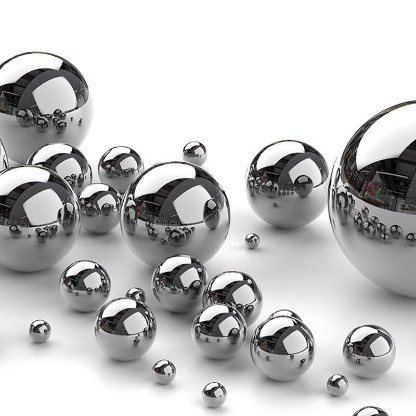ironball: (326, 98, 415, 299), (119, 160, 230, 268), (0, 50, 93, 164), (0, 164, 81, 272), (244, 138, 329, 228), (249, 313, 315, 381), (93, 295, 156, 361), (201, 269, 263, 327), (25, 141, 92, 194), (150, 253, 208, 313), (190, 302, 247, 359), (341, 323, 395, 378), (58, 258, 110, 312), (76, 182, 122, 234), (97, 145, 144, 193), (0, 118, 8, 215), (201, 381, 226, 407), (151, 358, 175, 384), (182, 140, 206, 165), (28, 318, 50, 342), (326, 373, 348, 396), (266, 308, 302, 321), (350, 405, 390, 415), (124, 286, 145, 302), (244, 232, 260, 248)
